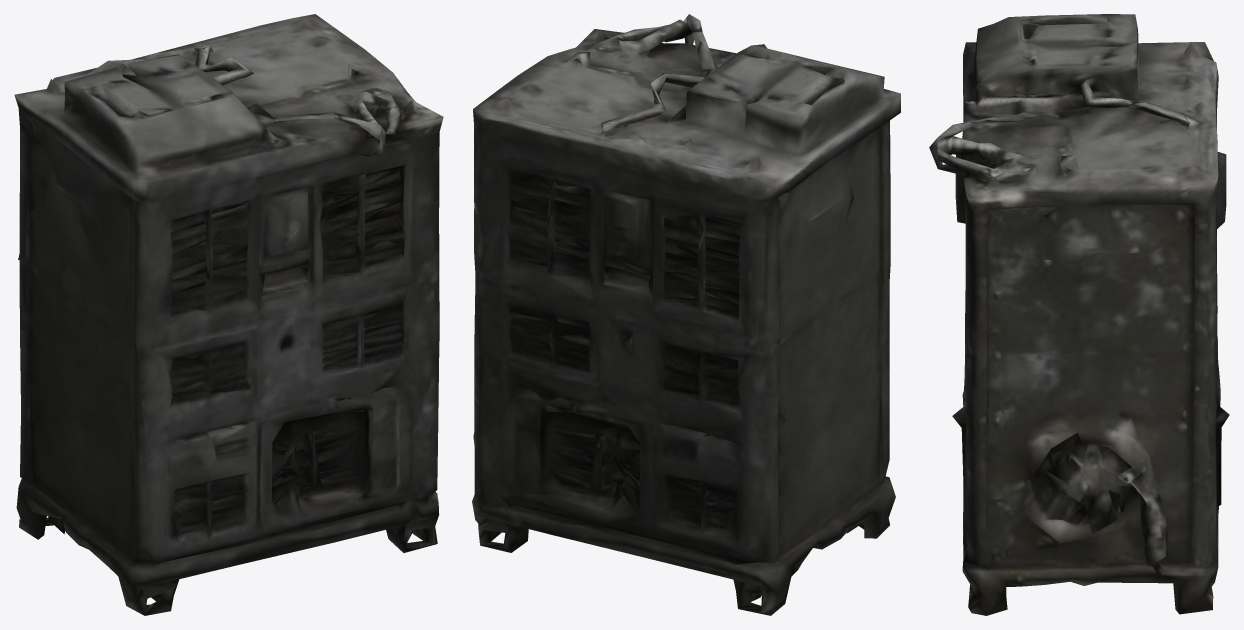
File: xd_vent.glb
3 renders of one model, left to right at view 1: azimuth 30°, elevation 25°; view 2: azimuth 150°, elevation 25°; view 3: azimuth 270°, elevation 25°, orthographic. The views are drawn at different scales.
Visible parts, largest first — view 1: tripo_node_9483afa5-9242-4226-a669-111be1a6a78f; view 2: tripo_node_9483afa5-9242-4226-a669-111be1a6a78f; view 3: tripo_node_9483afa5-9242-4226-a669-111be1a6a78f.
Part boxes in pixels (left/top/right/bottom): tripo_node_9483afa5-9242-4226-a669-111be1a6a78f: left=14, top=14, right=443, bottom=615; tripo_node_9483afa5-9242-4226-a669-111be1a6a78f: left=472, top=14, right=900, bottom=615; tripo_node_9483afa5-9242-4226-a669-111be1a6a78f: left=929, top=14, right=1229, bottom=615.
Bounding box in the file's own units: 0.7317 × 1 × 0.5856.
Materials: 1 (1 with a texture image).
